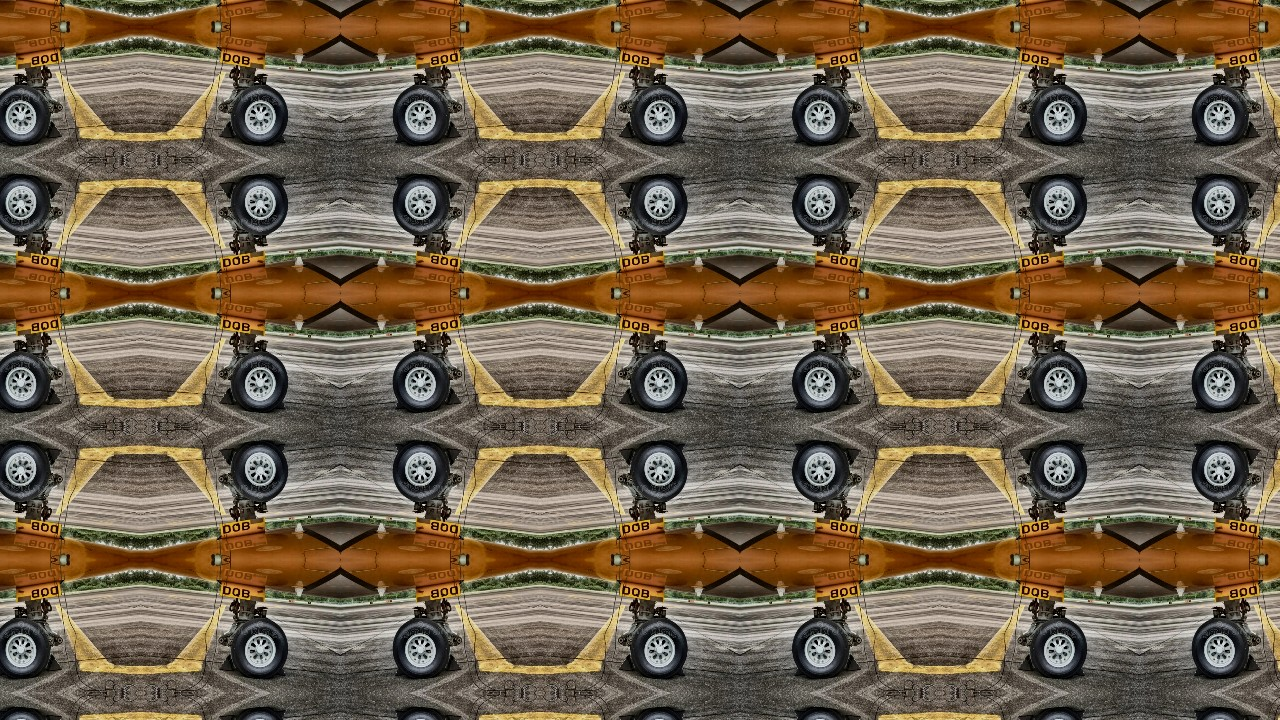chock: (43, 181, 62, 201), (218, 181, 237, 201), (443, 181, 462, 201), (618, 181, 637, 201), (843, 181, 862, 201), (1018, 181, 1037, 201), (1243, 181, 1262, 201), (43, 448, 62, 468), (218, 448, 237, 468), (443, 448, 462, 468), (618, 448, 637, 468), (843, 448, 862, 468), (1018, 448, 1037, 468), (1243, 448, 1262, 468), (43, 119, 62, 138), (218, 119, 237, 138), (443, 119, 462, 138), (618, 119, 637, 138), (843, 119, 862, 138), (1018, 119, 1037, 138), (1243, 119, 1262, 138), (43, 386, 62, 405), (218, 386, 237, 405), (443, 386, 462, 405), (618, 386, 637, 405), (843, 386, 862, 405), (1018, 386, 1037, 405), (1243, 386, 1262, 405), (43, 653, 62, 672), (218, 653, 237, 672), (443, 653, 462, 672), (618, 653, 637, 672), (843, 653, 862, 672), (1018, 653, 1037, 672), (1243, 653, 1262, 672), (43, 715, 62, 720), (218, 715, 237, 720), (443, 715, 462, 720), (618, 715, 637, 720), (843, 715, 862, 720), (1018, 715, 1037, 720), (1243, 715, 1262, 720)
wheel: (226, 80, 290, 148), (390, 80, 454, 148), (626, 80, 690, 148), (790, 80, 854, 148), (1026, 80, 1090, 148), (1190, 80, 1254, 148), (226, 347, 290, 415), (390, 347, 454, 415), (626, 347, 690, 415), (790, 347, 854, 415), (1026, 347, 1090, 415), (1190, 347, 1254, 415), (226, 614, 290, 682), (390, 614, 454, 682), (626, 614, 690, 682), (790, 614, 854, 682), (1026, 614, 1090, 682), (1190, 614, 1254, 682), (226, 172, 290, 239), (390, 172, 454, 239), (626, 172, 690, 239), (790, 172, 854, 239), (1026, 172, 1090, 239), (1190, 172, 1254, 239), (226, 439, 290, 506), (390, 439, 454, 506), (626, 439, 690, 506), (790, 439, 854, 506), (1026, 439, 1090, 506), (1190, 439, 1254, 506), (0, 80, 54, 148), (0, 347, 54, 415), (0, 614, 54, 682), (0, 172, 54, 239), (0, 439, 54, 506), (226, 706, 290, 720), (390, 706, 454, 720), (626, 706, 690, 720), (790, 706, 854, 720), (1026, 706, 1090, 720), (1190, 706, 1254, 720), (0, 706, 54, 720)
